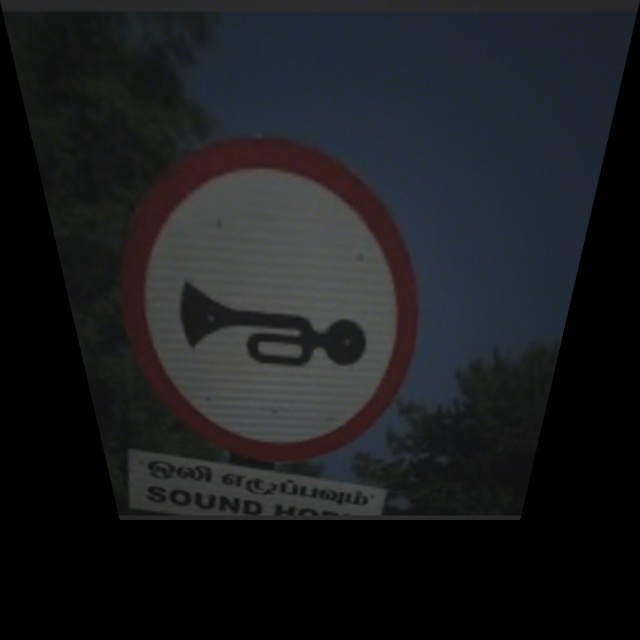Compulsory_Sound_Horn: (118, 150, 432, 441)
